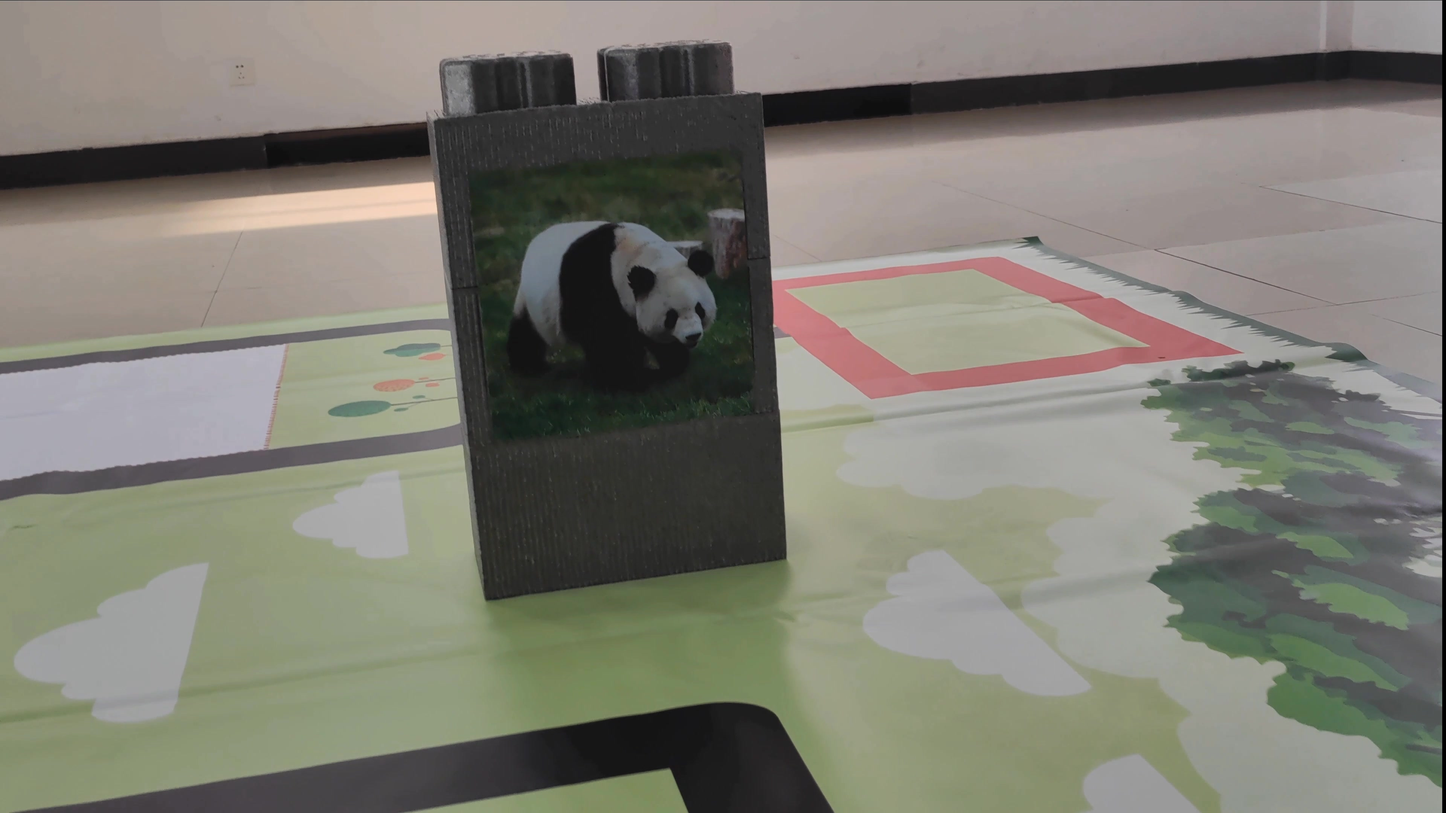panda: (479, 194, 758, 406)
